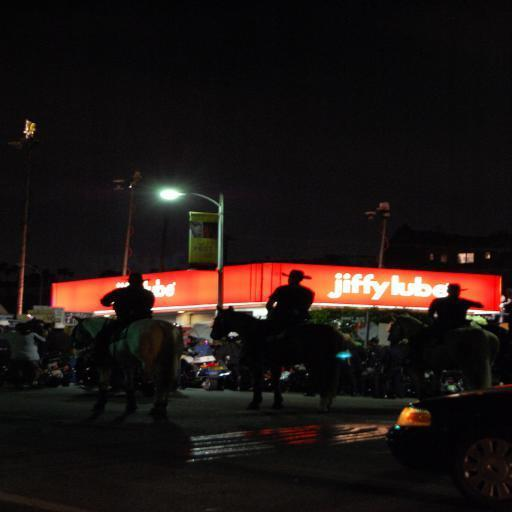horse: (208, 304, 346, 416), (66, 313, 186, 429), (382, 306, 498, 394)
